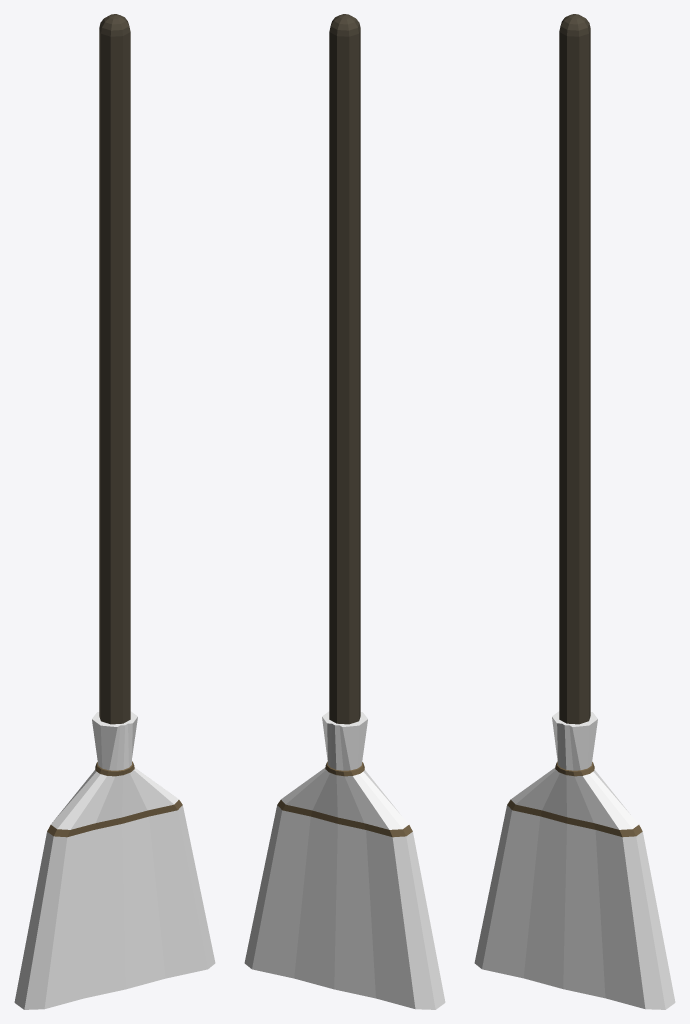
Rendered from Broom.fbx.
3 views of the same model, side by side, from view 1: azimuth 30°, elevation 25°; view 2: azimuth 150°, elevation 25°; view 3: azimuth 330°, elevation 25° (orthographic).
Parts seen in each view (by area): view 1: Cylinder.006; view 2: Cylinder.006; view 3: Cylinder.006.
Boxes of the visible parts, bbox=[...] form: Cylinder.006: bbox=[14, 14, 215, 1009]; Cylinder.006: bbox=[244, 14, 445, 1009]; Cylinder.006: bbox=[474, 14, 675, 1009].
Bounding box in the file's own units: 35.1 × 170 × 7.19.
